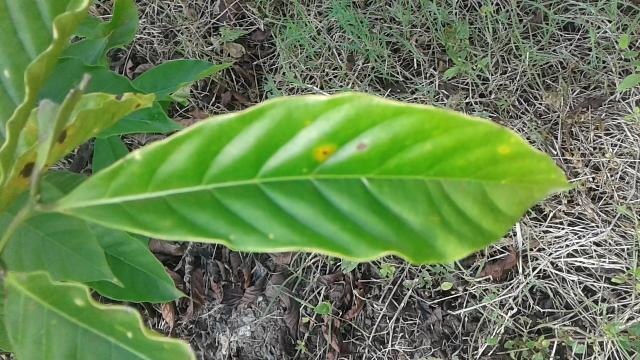rust_level_1: (55, 86, 582, 265)
